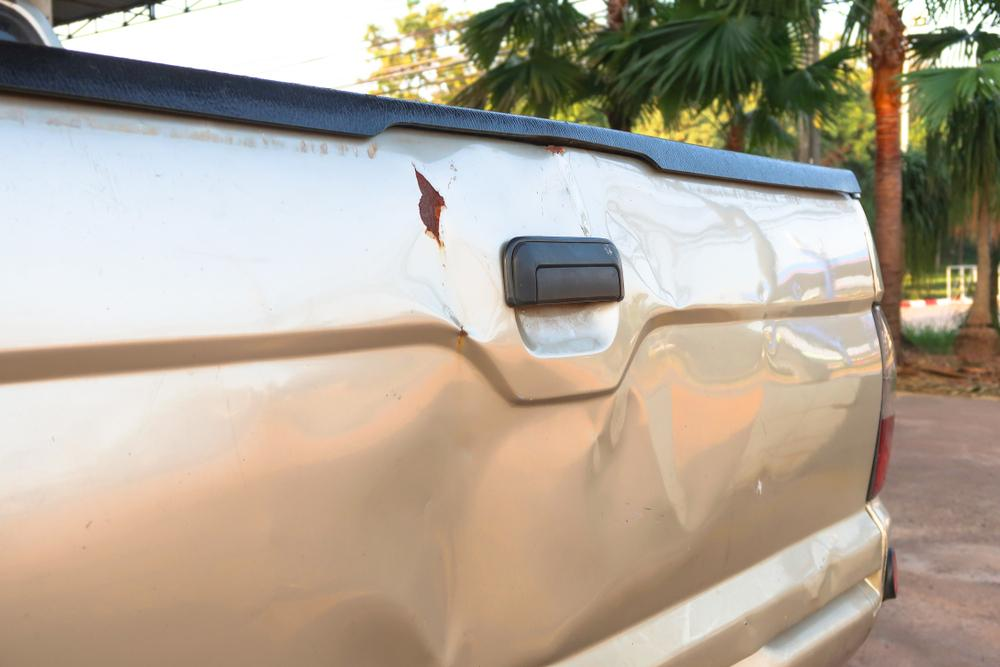dent: (386, 147, 768, 666)
